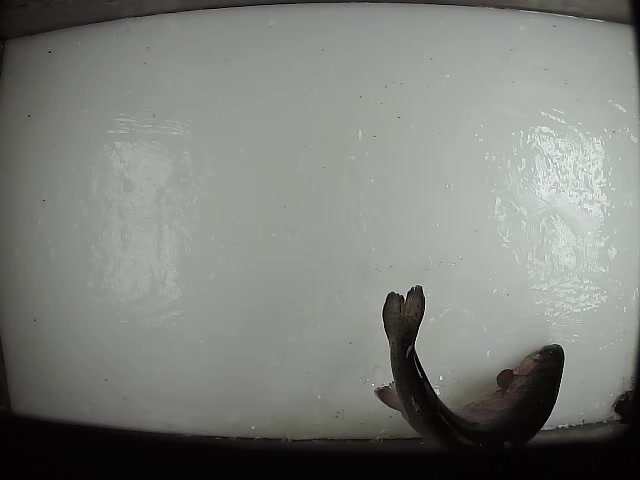fish: (373, 282, 566, 462)
